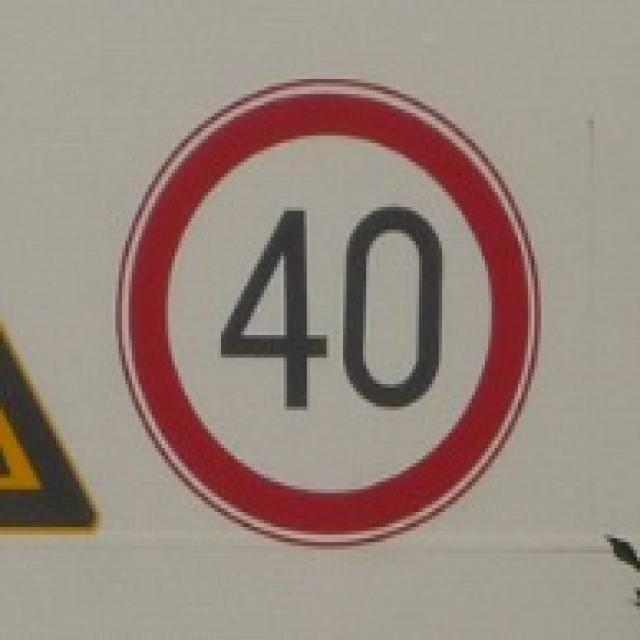Speed Limit -40-: (217, 202, 448, 414)
